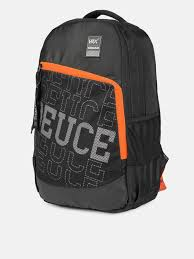backpack: (30, 9, 168, 213)
